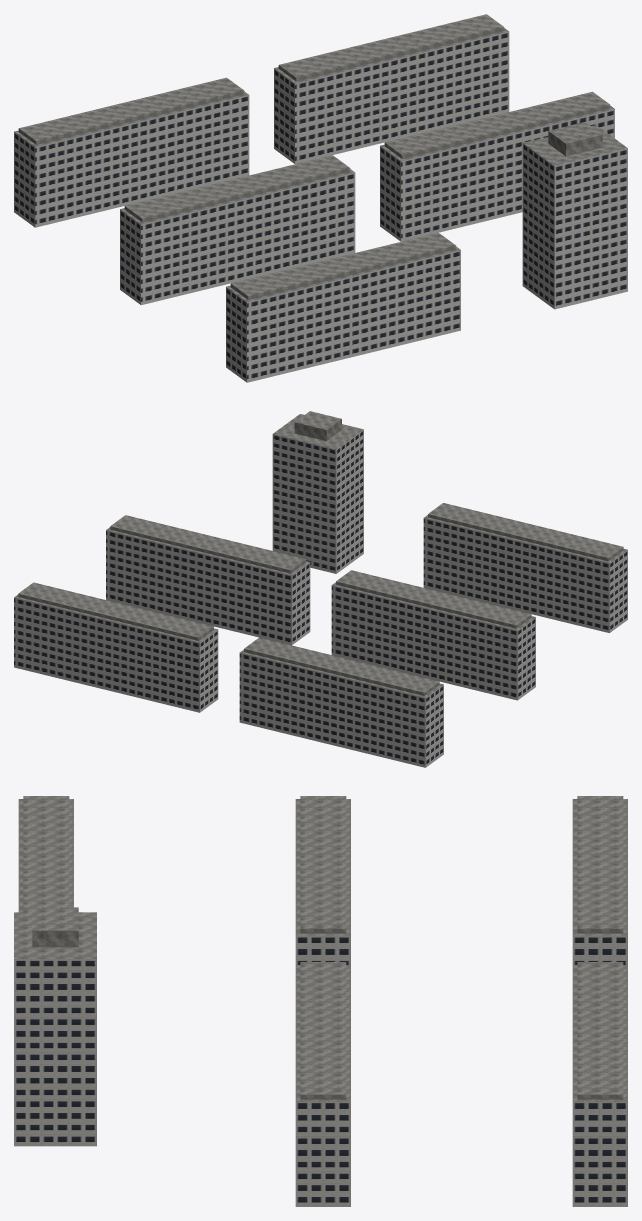
Rendered from pripyat_blocks.obj.
The picture shows the model from 3 angles, top to bottom: view 1: azimuth 30°, elevation 25°; view 2: azimuth 150°, elevation 25°; view 3: azimuth 270°, elevation 25°; orthographic projection. The views are drawn at different scales.
Visible parts, largest first — view 1: Block2_FacadePanel, Block0_FacadePanel, Block1_FacadePanel, Block4_FacadePanel, Tower16_FacadePanel, Block3_FacadePanel, Block1_Concrete, Block2_Concrete, Block0_Concrete, Block4_Concrete, Block3_Concrete, Tower16_Concrete; view 2: Block0_FacadePanel, Block1_FacadePanel, Block2_FacadePanel, Block4_FacadePanel, Block3_FacadePanel, Tower16_FacadePanel, Block3_Concrete, Block0_Concrete, Block2_Concrete, Block1_Concrete, Block4_Concrete, Tower16_Concrete; view 3: Tower16_FacadePanel, Block0_Concrete, Block1_Concrete, Block2_Concrete, Block3_Concrete, Block4_Concrete, Block1_FacadePanel, Block3_FacadePanel, Tower16_Concrete, Block0_FacadePanel, Block2_FacadePanel.
Boxes of the visible parts, box(x1,y1,x2,y2) form: Block2_FacadePanel: box(120, 172, 355, 305); Block0_FacadePanel: box(14, 95, 249, 227); Block1_FacadePanel: box(274, 31, 509, 164); Block4_FacadePanel: box(226, 250, 460, 382); Tower16_FacadePanel: box(522, 143, 627, 309); Block3_FacadePanel: box(380, 109, 614, 241); Block1_Concrete: box(274, 14, 508, 83); Block2_Concrete: box(120, 155, 354, 224); Block0_Concrete: box(14, 77, 248, 146); Block4_Concrete: box(226, 232, 460, 301); Block3_Concrete: box(380, 91, 614, 160); Tower16_Concrete: box(523, 122, 627, 165); Block0_FacadePanel: box(239, 652, 443, 767); Block1_FacadePanel: box(14, 597, 218, 712); Block2_FacadePanel: box(331, 585, 535, 700); Block4_FacadePanel: box(423, 518, 627, 632); Block3_FacadePanel: box(106, 530, 310, 645); Tower16_FacadePanel: box(272, 429, 363, 573); Block3_Concrete: box(106, 515, 309, 575); Block0_Concrete: box(240, 637, 443, 697); Block2_Concrete: box(332, 570, 535, 630); Block1_Concrete: box(14, 582, 217, 642); Block4_Concrete: box(424, 503, 627, 562); Tower16_Concrete: box(273, 411, 363, 449); Tower16_FacadePanel: box(14, 959, 96, 1146); Block0_Concrete: box(572, 796, 627, 935); Block1_Concrete: box(572, 962, 627, 1101); Block2_Concrete: box(295, 796, 350, 935); Block3_Concrete: box(295, 962, 350, 1101); Block4_Concrete: box(18, 796, 73, 912); Block1_FacadePanel: box(572, 1101, 627, 1206); Block3_FacadePanel: box(295, 1101, 350, 1206); Tower16_Concrete: box(14, 907, 96, 958); Block0_FacadePanel: box(572, 935, 627, 964); Block2_FacadePanel: box(295, 935, 350, 964).
Size of the model in its own units: 155 by 48.8 by 133.
Materials: 2 (2 with a texture image).
